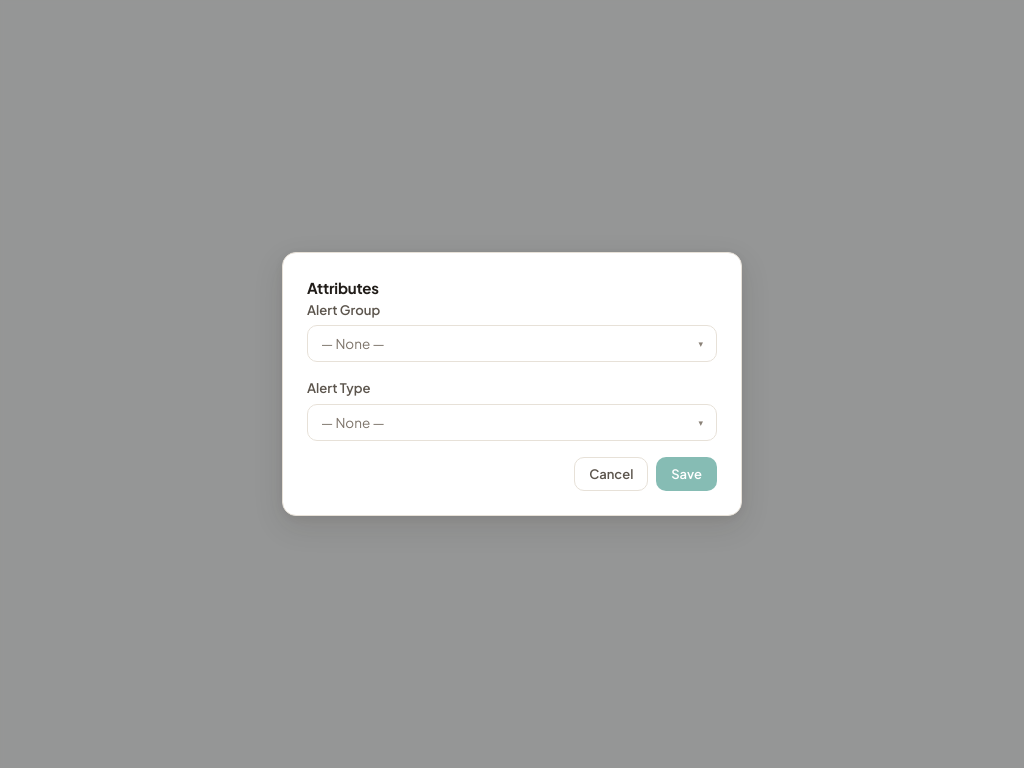
Scenario: TaskAttributesModal › shows why the attributes could not be saved, and stays open
Step 1. Click the button with aria-label "Alert Group:" → (353, 344), box [307,325,717,362]
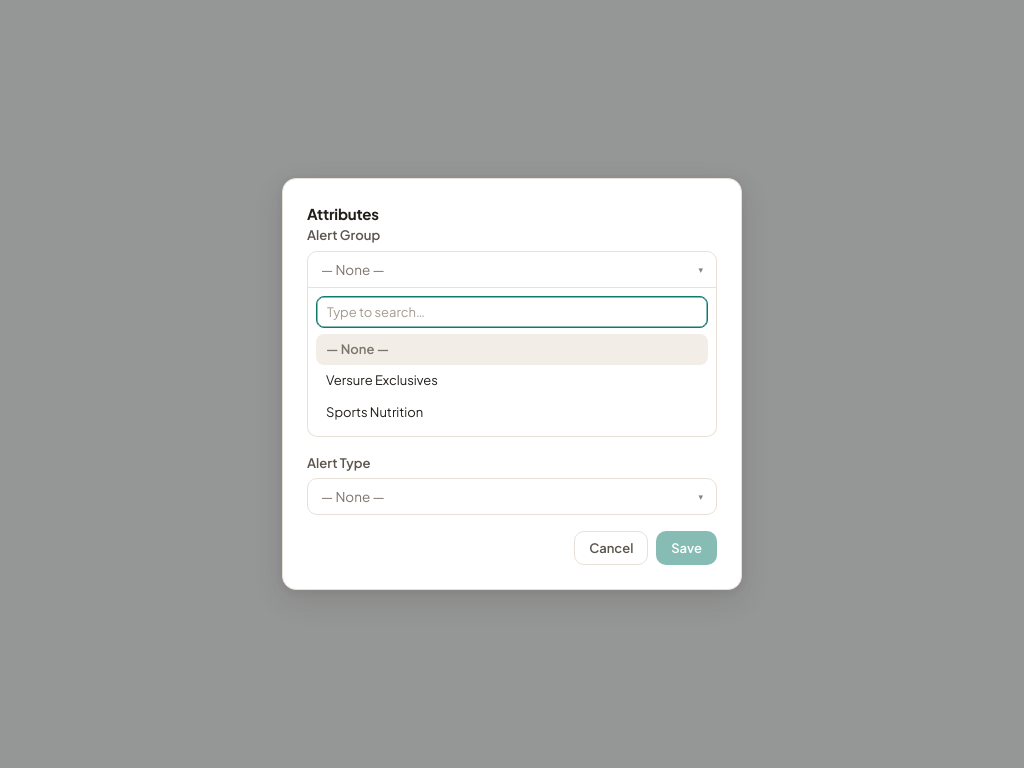
Step 2. Click the option "Versure Exclusives" → (382, 380), box [326,372,438,388]
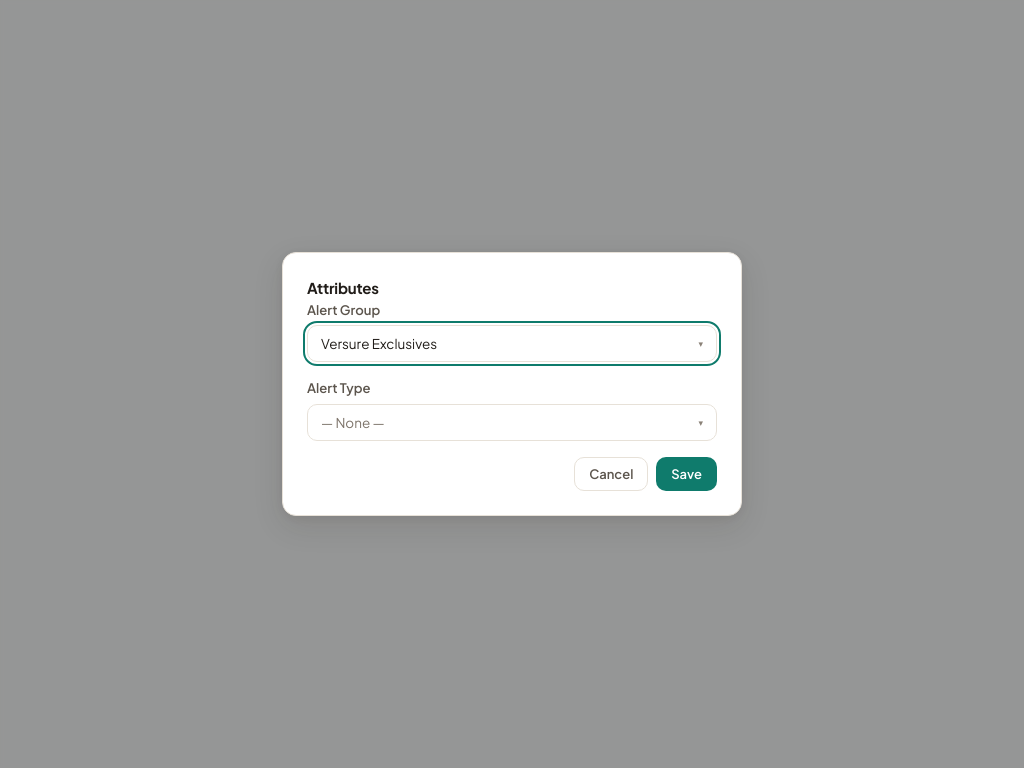
Step 3. Click the button "Save" → (687, 474), box [656,456,717,490]
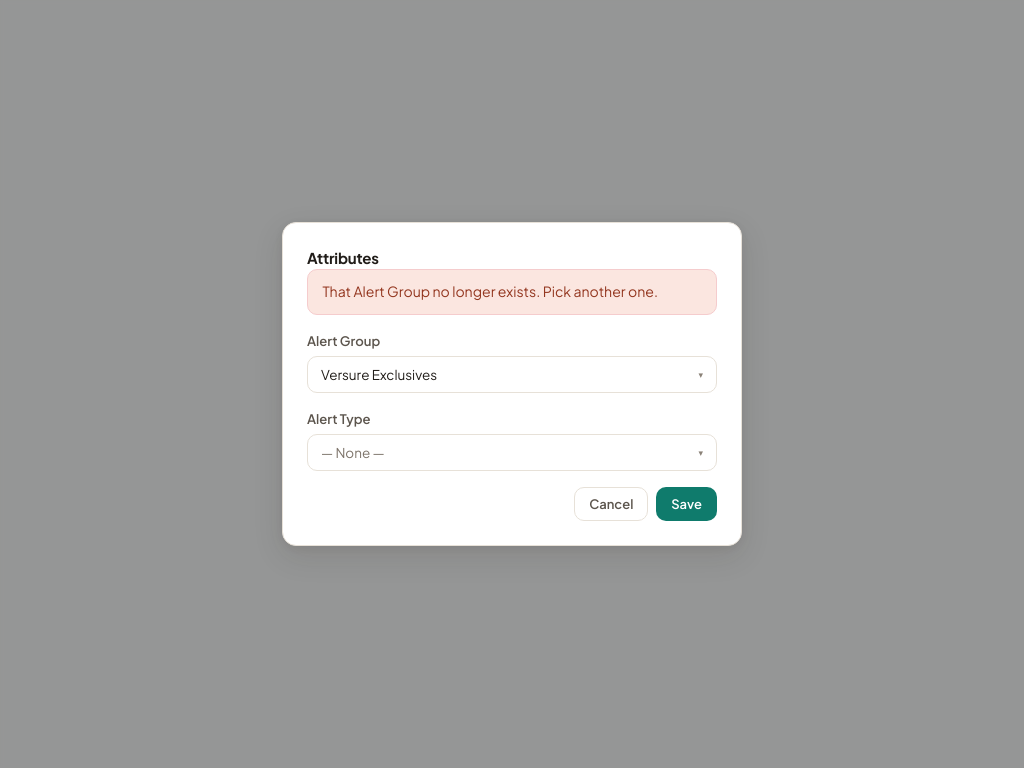
Result: the button "Save" is enabled at [656,487,717,521]
Result: the text "That Alert Group no longer exists. Pick another one." is shown at [307,269,717,315]
